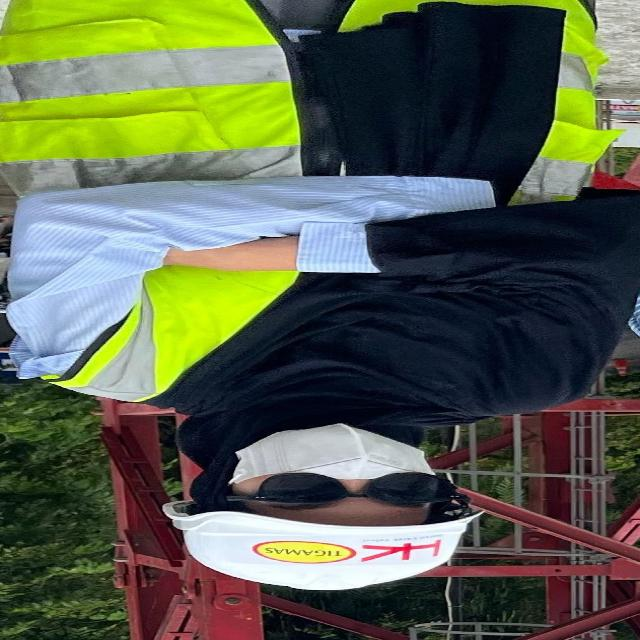safetyhelmet: (151, 442, 500, 598)
